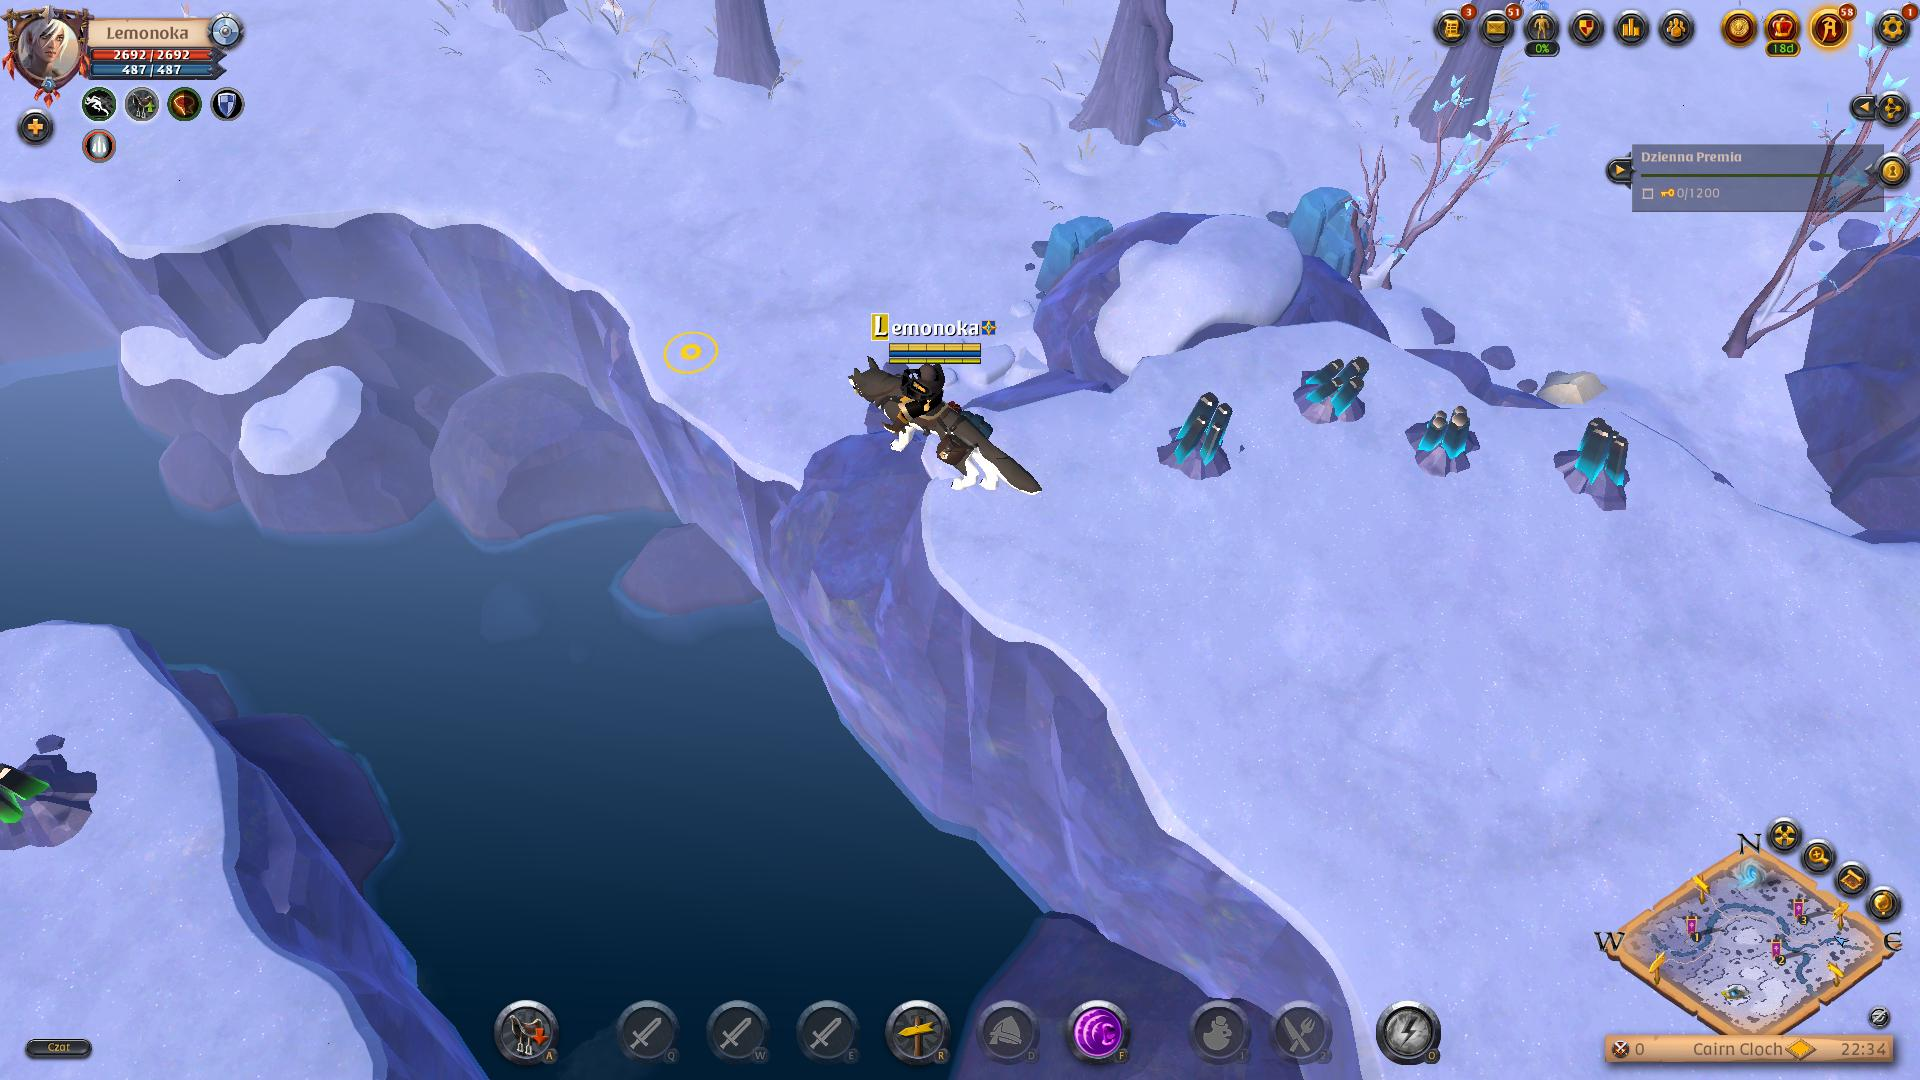ore tier 4: (1158, 385, 1242, 487), (1559, 417, 1635, 513), (1296, 349, 1375, 435), (1403, 404, 1486, 480)
